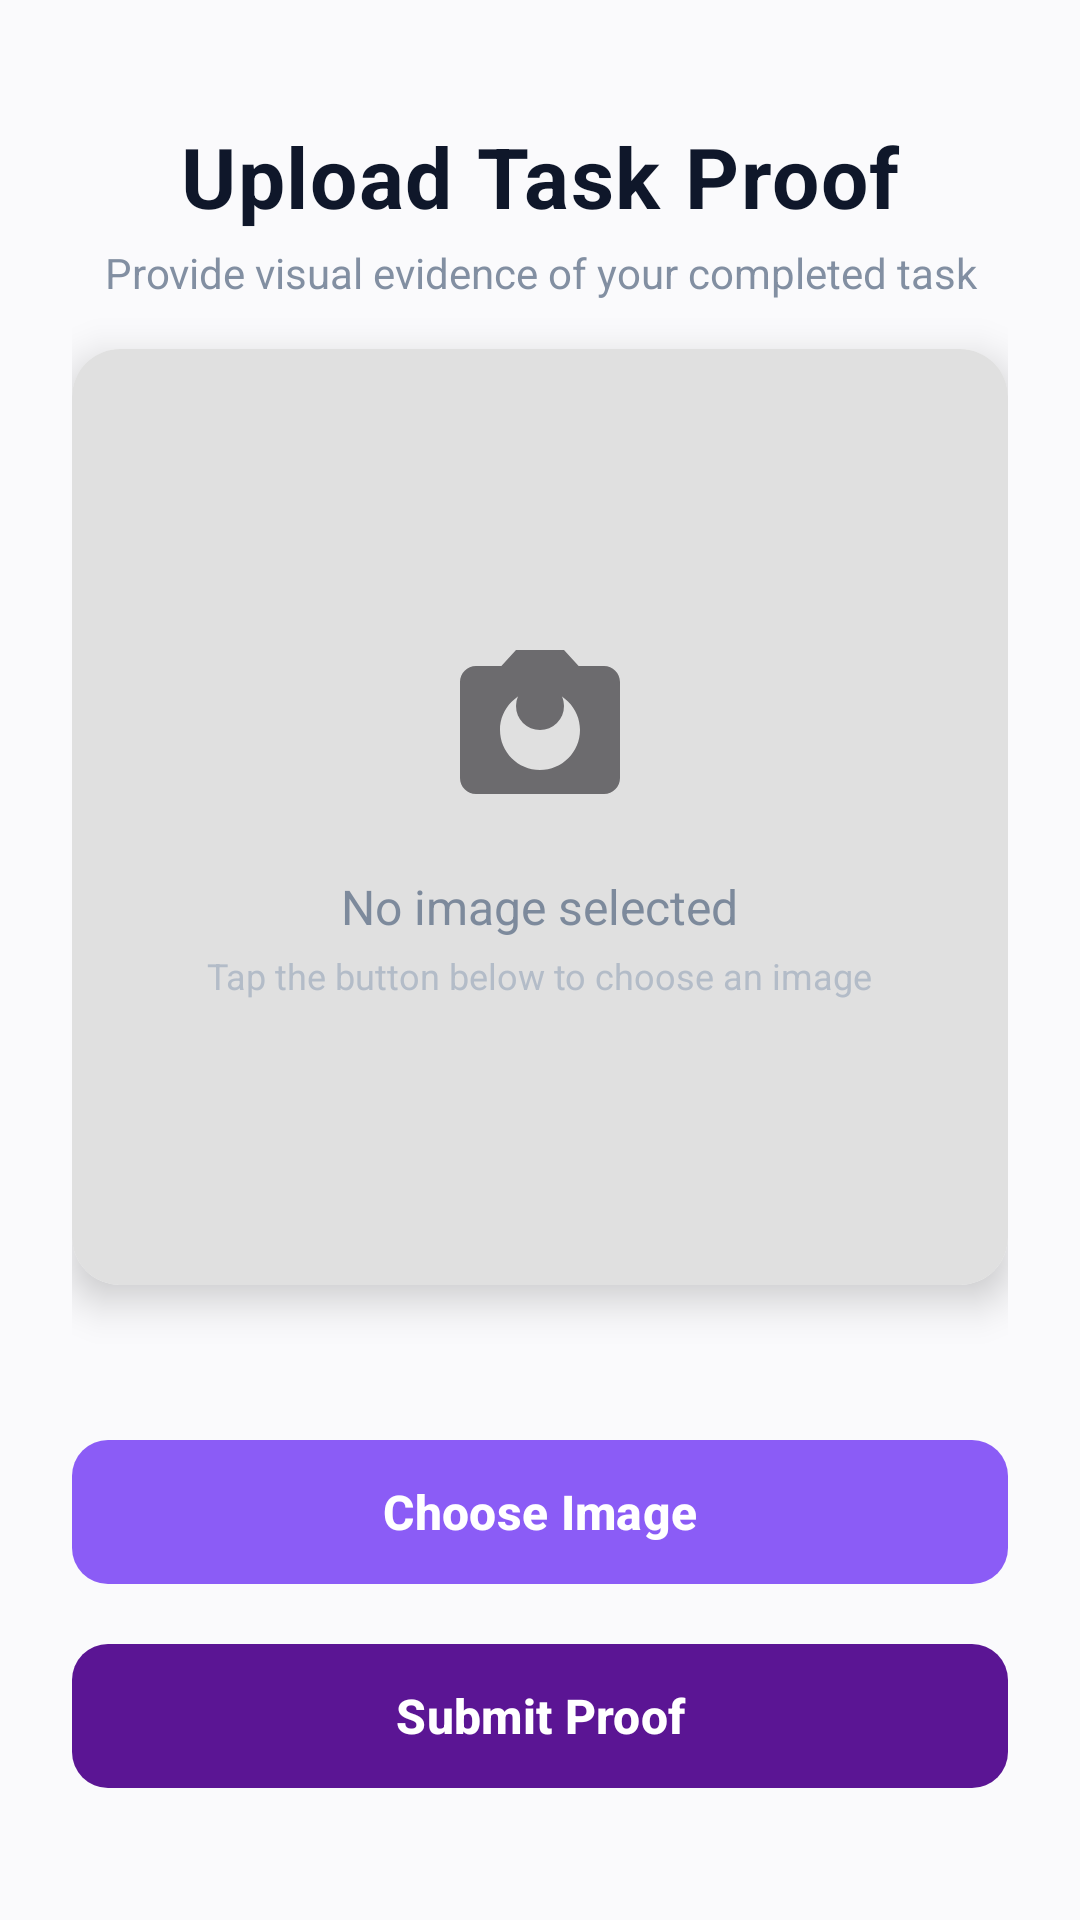

Screen size 1080px x 1920px. Icon name, then its box in pixels as [x1, y1, x2, y2]:
camera: [460, 650, 620, 794]
